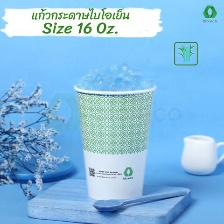paper_cup: (70, 77, 160, 204)
